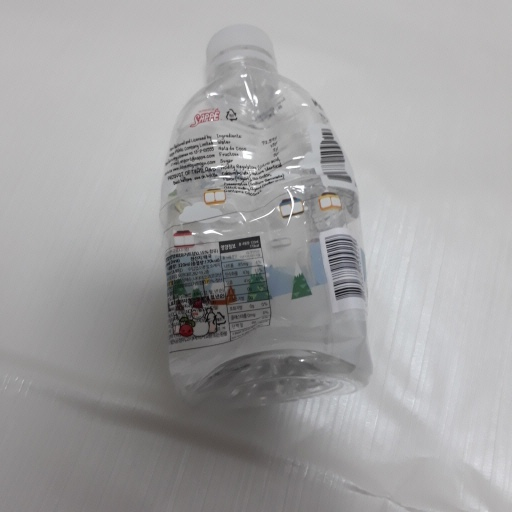Plastic_0: (157, 24, 373, 406)
